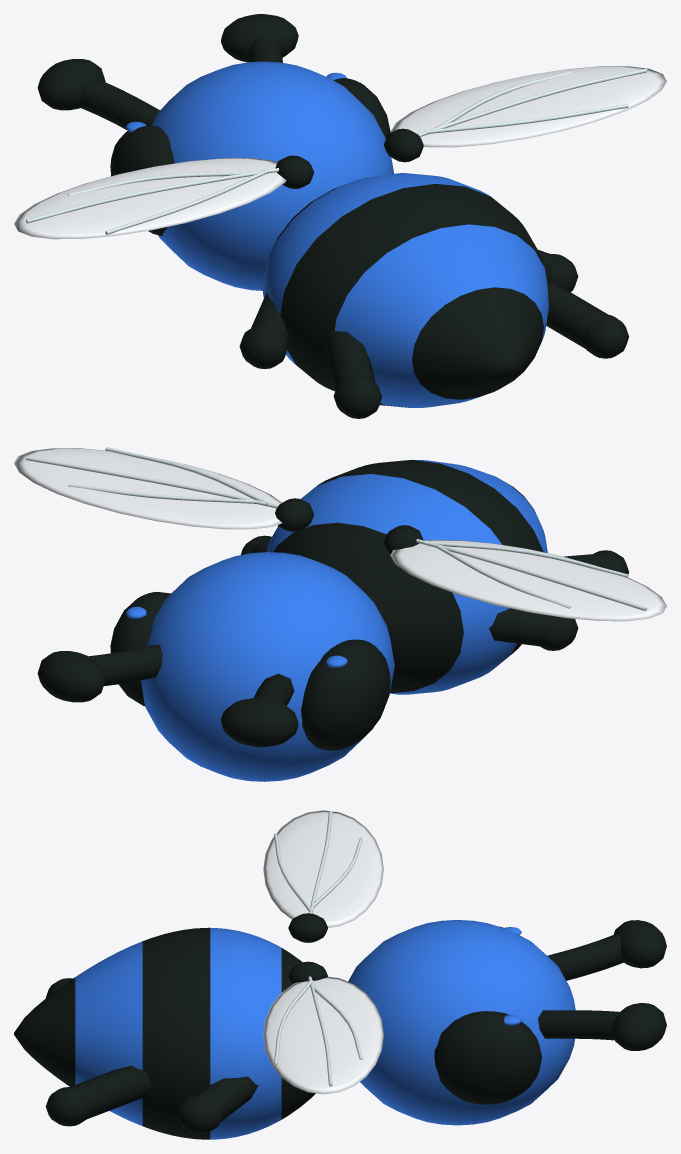
Rendered from Bee_Blue.fbx.
The picture shows the model from 3 angles, top to bottom: view 1: azimuth 30°, elevation 25°; view 2: azimuth 150°, elevation 25°; view 3: azimuth 270°, elevation 25°; orthographic projection. The views are drawn at different scales.
Visible parts, largest first — view 1: Gameplay_Bee_Blue_Color, Gameplay_Bee_Blue_Dark, Gameplay_Bee_Blue_LeftMembrane, Gameplay_Bee_Blue_RightMembrane, Bee_Blue_Grip_RightRear, Bee_Blue_Grip_LeftRear, Bee_Blue_Grip_LeftFront, Bee_Blue_Grip_RightFront; view 2: Gameplay_Bee_Blue_Color, Gameplay_Bee_Blue_Dark, Gameplay_Bee_Blue_LeftMembrane, Gameplay_Bee_Blue_RightMembrane, Bee_Blue_Grip_LeftFront, Bee_Blue_Grip_LeftRear; view 3: Gameplay_Bee_Blue_Color, Gameplay_Bee_Blue_Dark, Gameplay_Bee_Blue_RightMembrane, Gameplay_Bee_Blue_LeftMembrane, Bee_Blue_Grip_RightRear, Bee_Blue_Grip_RightFront.
Boxes of the visible parts, <box> form: Gameplay_Bee_Blue_Color: <box>125,61,548,407</box>; Gameplay_Bee_Blue_Dark: <box>37,14,544,407</box>; Gameplay_Bee_Blue_LeftMembrane: <box>14,158,286,239</box>; Gameplay_Bee_Blue_RightMembrane: <box>390,66,666,147</box>; Bee_Blue_Grip_RightRear: <box>546,278,628,358</box>; Bee_Blue_Grip_LeftRear: <box>324,330,381,418</box>; Bee_Blue_Grip_LeftFront: <box>239,293,288,368</box>; Bee_Blue_Grip_RightFront: <box>538,250,578,291</box>; Gameplay_Bee_Blue_Color: <box>125,459,547,781</box>; Gameplay_Bee_Blue_Dark: <box>37,460,543,750</box>; Gameplay_Bee_Blue_LeftMembrane: <box>390,539,666,621</box>; Gameplay_Bee_Blue_RightMembrane: <box>14,447,282,529</box>; Bee_Blue_Grip_LeftFront: <box>489,608,578,650</box>; Bee_Blue_Grip_LeftRear: <box>564,550,628,574</box>; Gameplay_Bee_Blue_Color: <box>75,920,575,1139</box>; Gameplay_Bee_Blue_Dark: <box>14,913,666,1139</box>; Gameplay_Bee_Blue_RightMembrane: <box>263,976,383,1094</box>; Gameplay_Bee_Blue_LeftMembrane: <box>263,810,383,927</box>; Bee_Blue_Grip_RightRear: <box>45,1065,151,1126</box>; Bee_Blue_Grip_RightFront: <box>176,1076,258,1133</box>.
Size of the model in its own units: 329 by 104 by 320.
